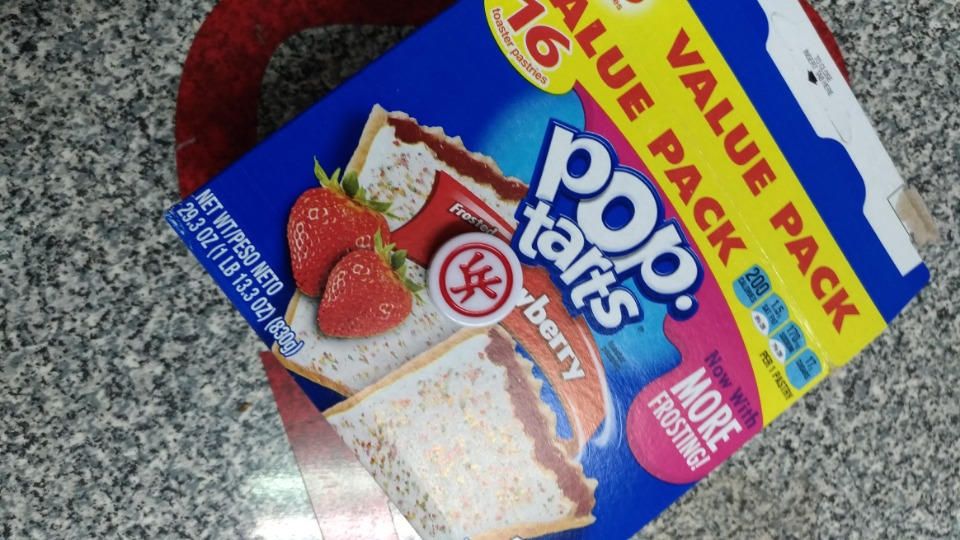r-pawn: (423, 225, 535, 329)
